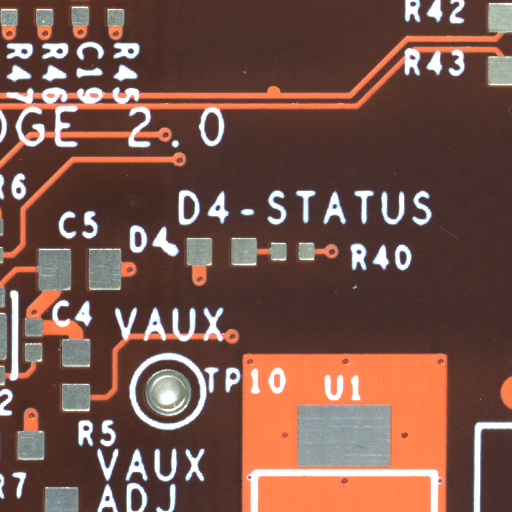Spur: (272, 89, 286, 97)
